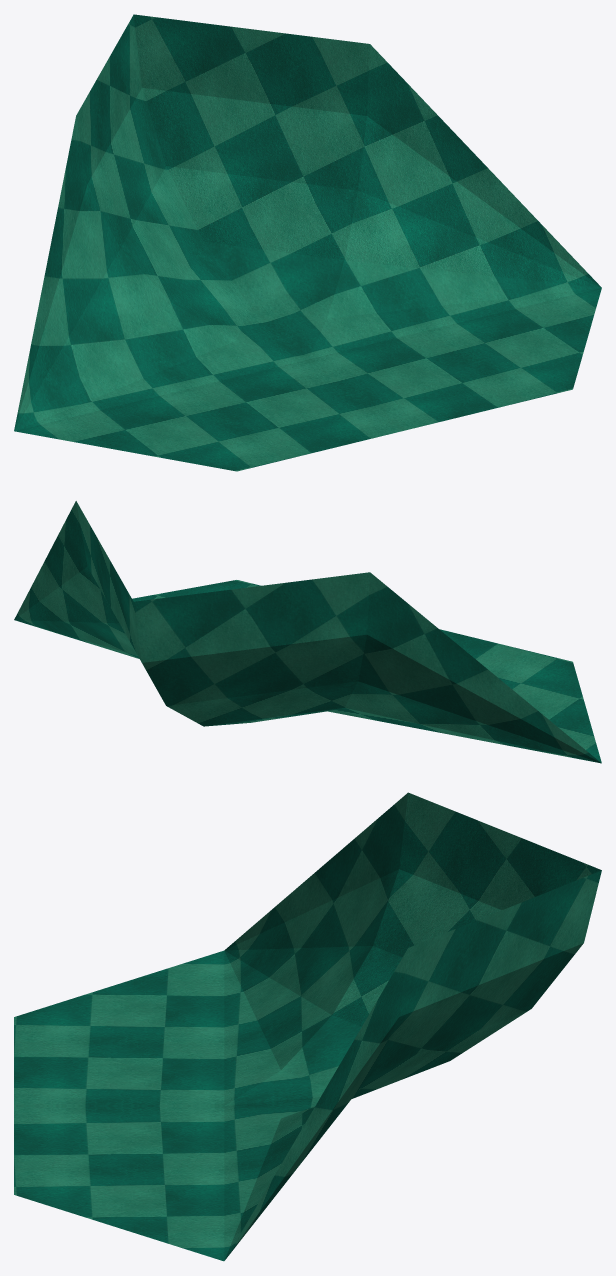
File: Pra_cup_corner.gltf
The picture shows the model from 3 angles, top to bottom: view 1: azimuth 30°, elevation 25°; view 2: azimuth 150°, elevation 25°; view 3: azimuth 270°, elevation 25°; orthographic projection. The views are drawn at different scales.
Visible parts, largest first — view 1: Pra_cup_corner_glb; view 2: Pra_cup_corner_glb; view 3: Pra_cup_corner_glb.
Boxes of the visible parts, x1,y1,x2,y2 form: Pra_cup_corner_glb: (14,14,601,471); Pra_cup_corner_glb: (14,501,601,763); Pra_cup_corner_glb: (14,792,601,1261).
Size of what is drawn, in the model's own units: 9.9 by 3.5 by 7.91.
1 material, 1 textured.
